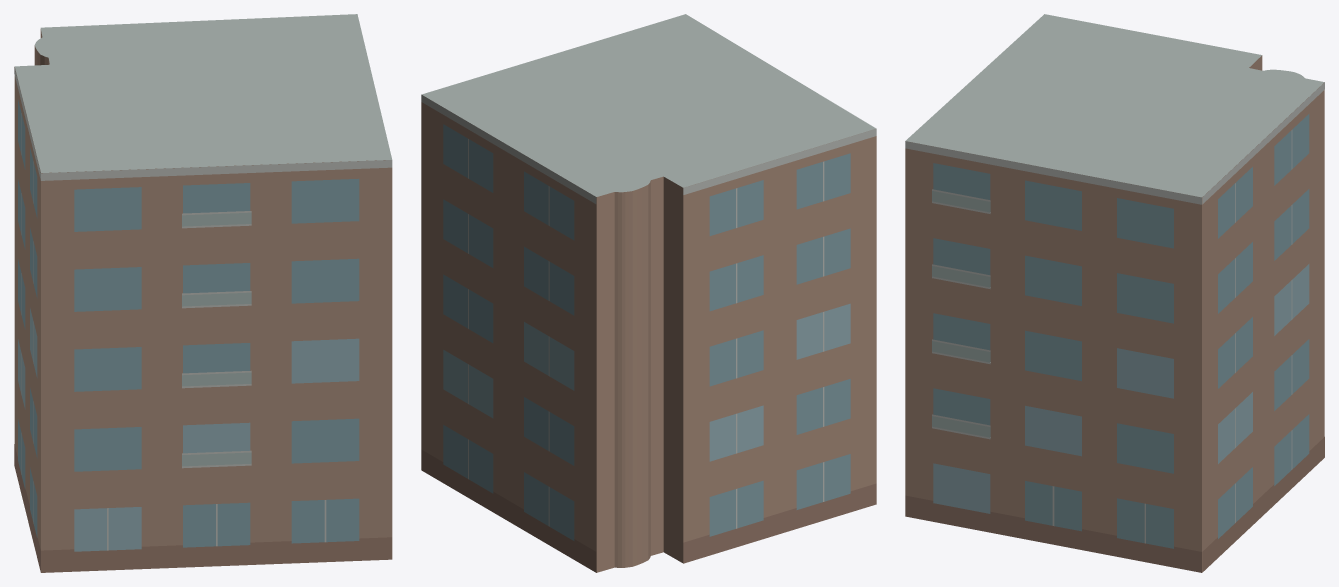
Rendered from survey-upis-32670329.glb.
The picture shows the model from 3 angles, left to right: view 1: azimuth 30°, elevation 25°; view 2: azimuth 150°, elevation 25°; view 3: azimuth 270°, elevation 25°; orthographic projection. The views are drawn at different scales.
Visible parts, largest first — view 1: survey-upis-32670329.tmp; view 2: survey-upis-32670329.tmp; view 3: survey-upis-32670329.tmp.
Part boxes in pixels (x1=…): survey-upis-32670329.tmp: x1=14, y1=14, x2=392, y2=572; survey-upis-32670329.tmp: x1=421, y1=14, x2=876, y2=572; survey-upis-32670329.tmp: x1=905, y1=14, x2=1324, y2=572.
Size of the model in its own units: 13 by 12.4 by 12.57.
